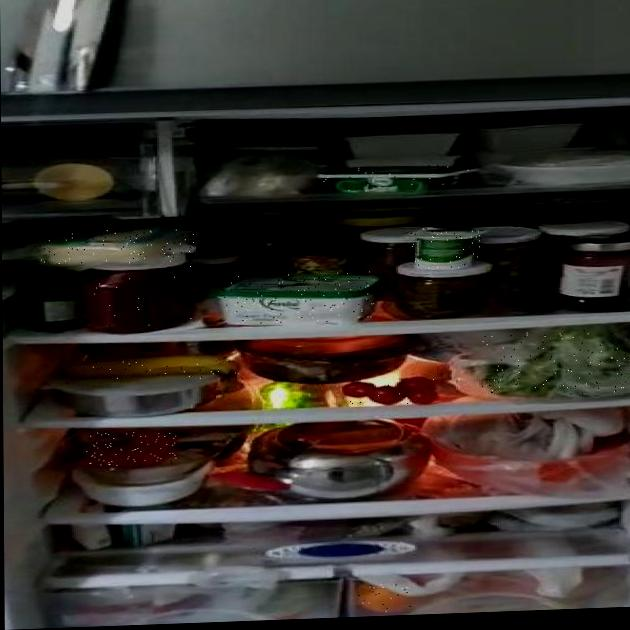banana: (62, 355, 242, 384)
cheese: (223, 271, 377, 326), (40, 227, 195, 267)
cream cheese: (313, 164, 474, 194)
lettuce: (481, 326, 630, 398)
orange: (356, 583, 412, 613)
tomato: (86, 429, 179, 468), (340, 378, 438, 407)
tomato paste: (74, 262, 199, 332)
yoghurt: (411, 226, 482, 271)
